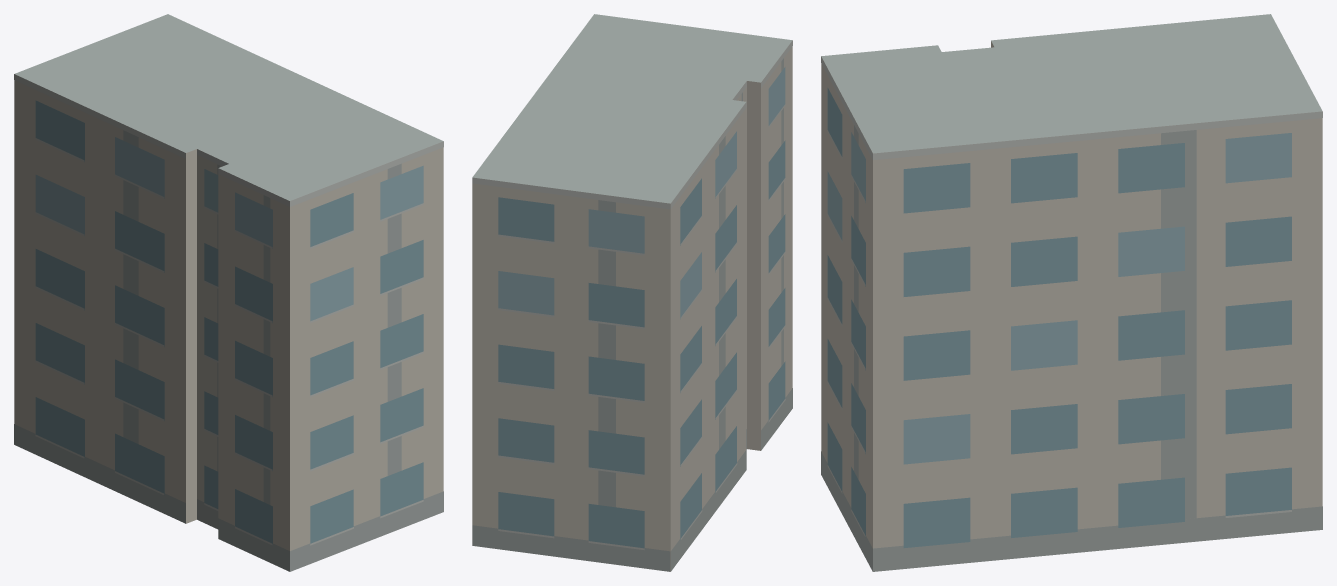
The model's file is survey-upis-32908475.glb.
3 renders of one model, left to right at view 1: azimuth 30°, elevation 25°; view 2: azimuth 150°, elevation 25°; view 3: azimuth 270°, elevation 25°, orthographic. The views are drawn at different scales.
Parts seen in each view (by area): view 1: survey-upis-32908475.tmp; view 2: survey-upis-32908475.tmp; view 3: survey-upis-32908475.tmp.
Part boxes in pixels (x1,y1,x2,y2): survey-upis-32908475.tmp: [14, 14, 443, 571]; survey-upis-32908475.tmp: [472, 14, 792, 571]; survey-upis-32908475.tmp: [821, 14, 1322, 571].
Bounding box in the file's own units: 10.88 × 15.2 × 16.53.
